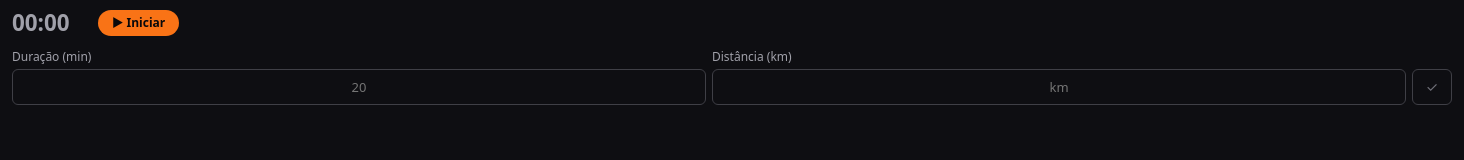
Scenario: CardioRow › concluir com o cronômetro correndo para ele, grava a duração e marca completed
The width and height of the screenshot is (1464, 160).
What coordinates should you click on to do the following:
click the button "▶ Iniciar"
I would click on:
 (139, 23)
Its box is [98, 10, 179, 36].
Wait 120000 ms
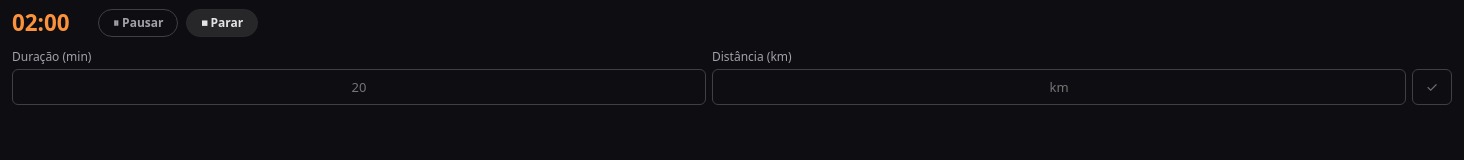
What coordinates should you click on to do the following:
click the button named "Cardio concluído"
I would click on:
 (1432, 87)
Its box is [1412, 69, 1452, 105].
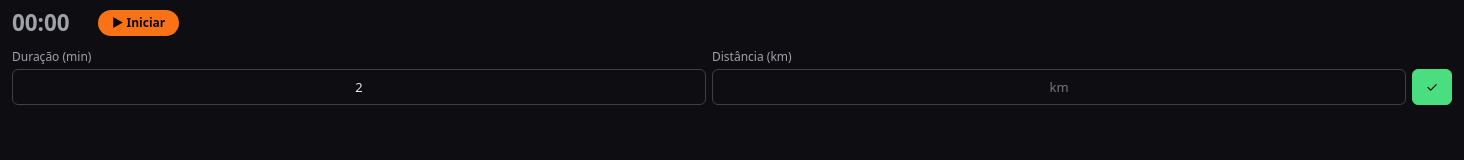
Result: the field labelled "Duração (min)" holds "2" at [12, 69, 706, 105]
